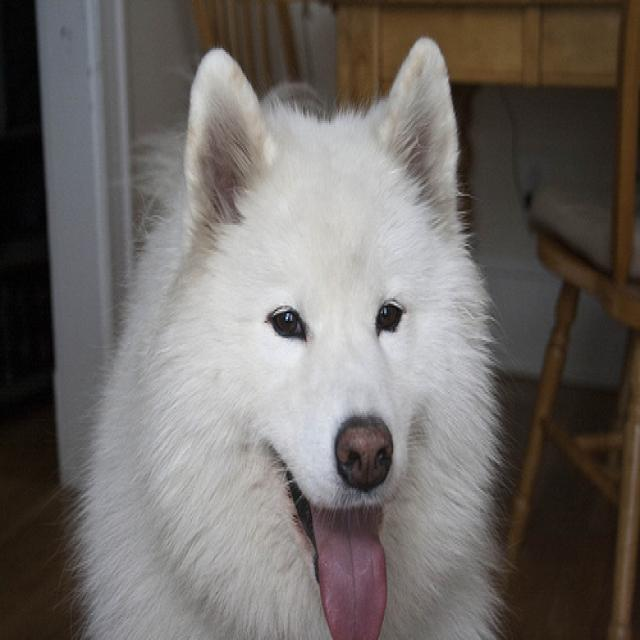dog-samoyed: (61, 27, 517, 636)
